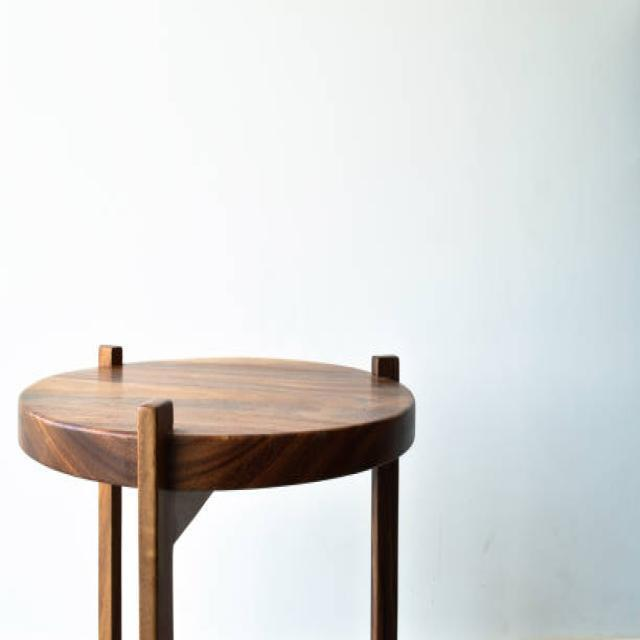table: (16, 344, 416, 638)
